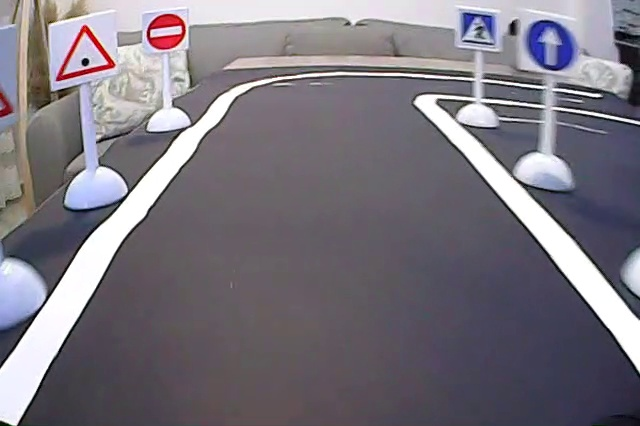do not enter: (143, 13, 192, 52)
green light: (51, 24, 121, 79)
pedestrian crossing: (460, 10, 499, 47)
